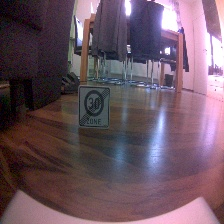dreisiger_zone_ende: (76, 84, 111, 130)
